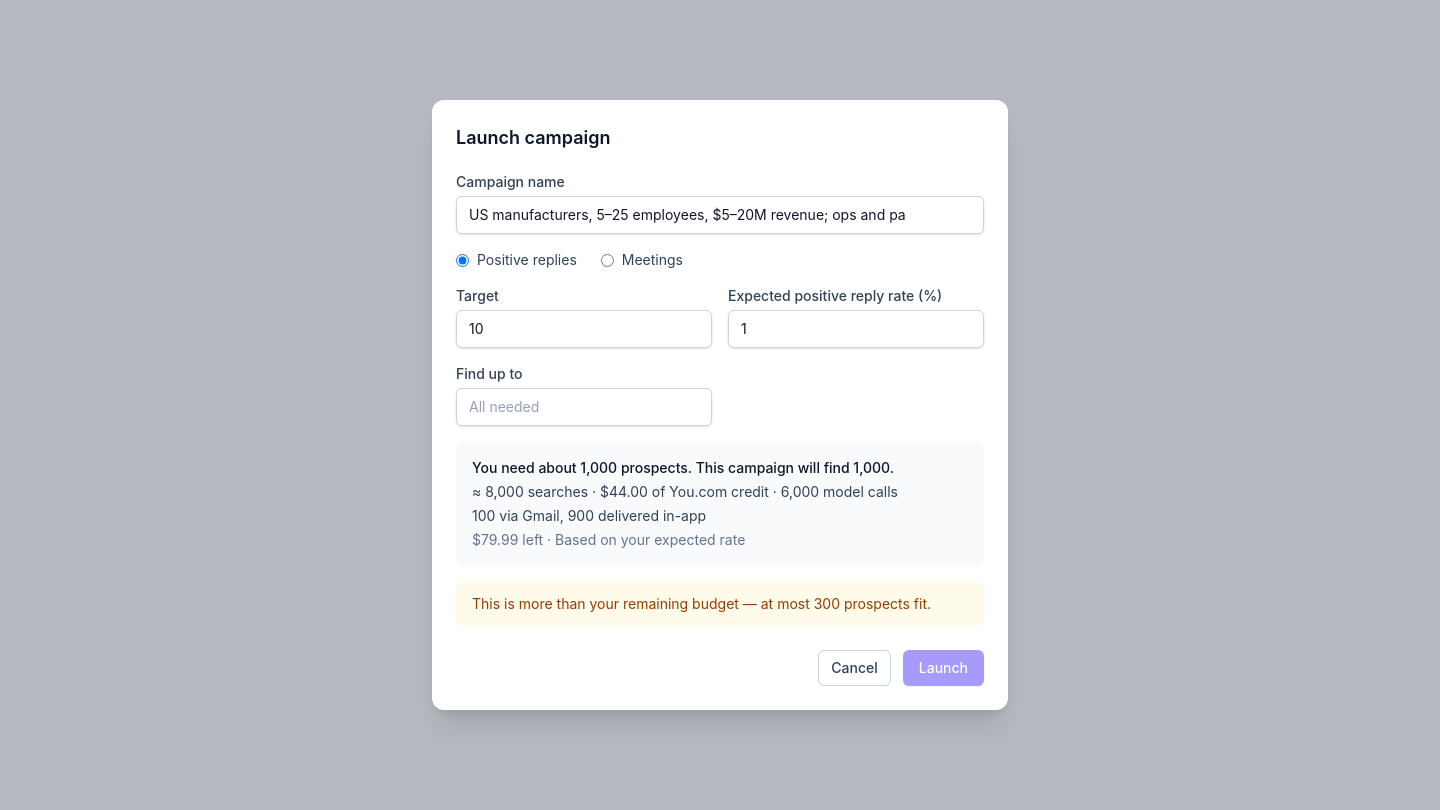
blocks launch when over budget until capped
Check: the message shows "at most 300 prospects", box [456,582,984,626]
Check: the button "Launch" is disabled, box [903,650,984,686]
Type "200" into the number field labelled "Find up to" at (584, 407), box [456,388,712,426]
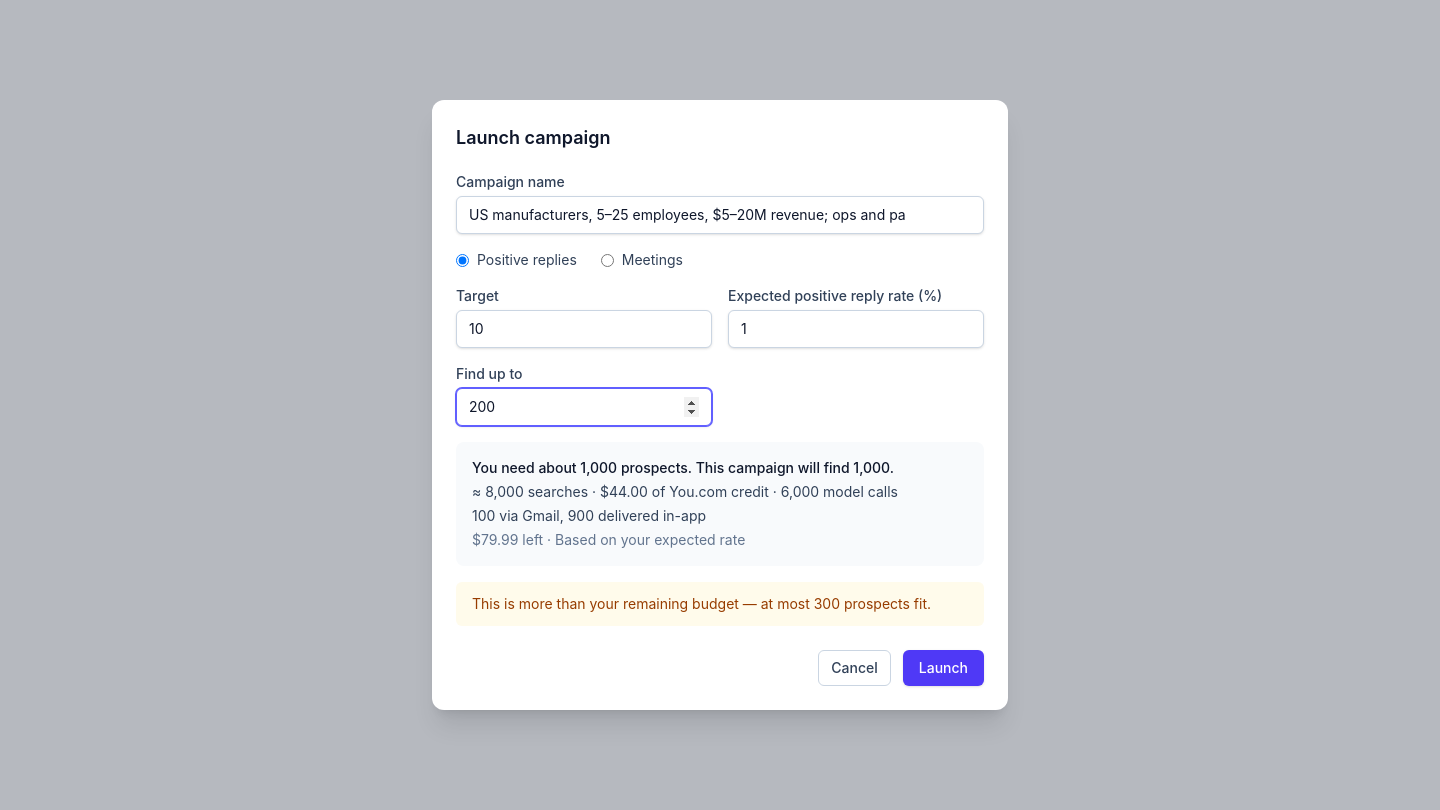
Check: the button "Launch" is enabled, box [903,650,984,686]
